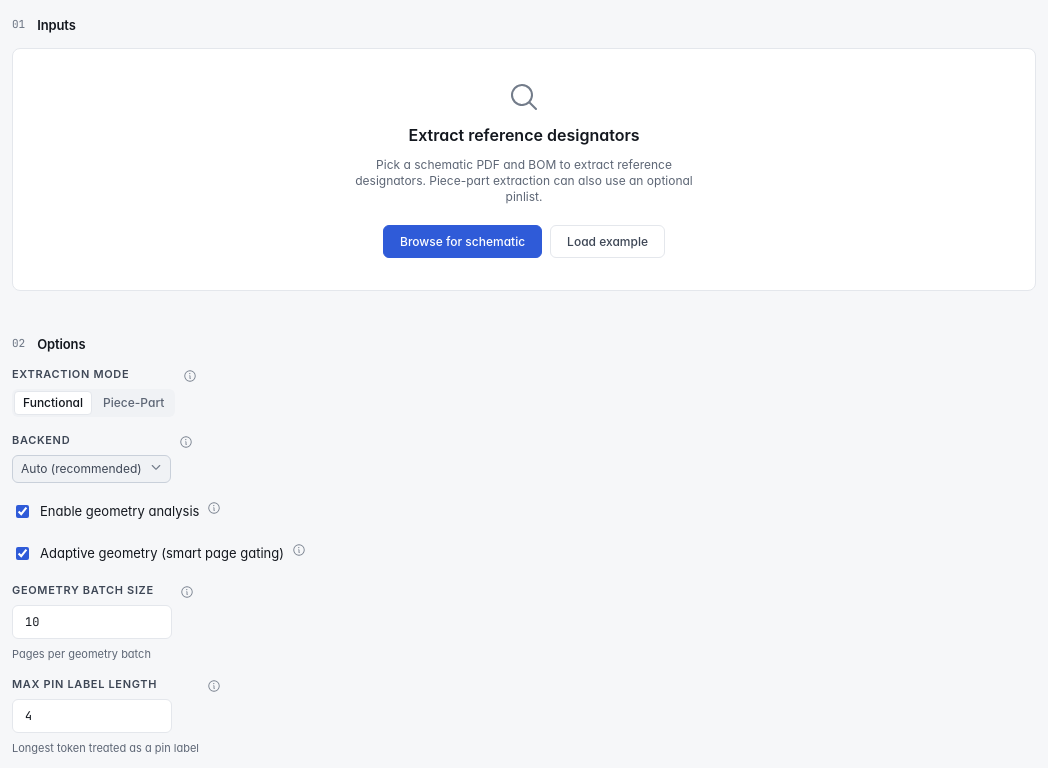
Test case: RefDesExtractorTool browser-preview Load example › reveals the staged demo content instead of a coming-soon notice
Step 1. Click the button "Load example" → (608, 242), box [550,225,665,258]
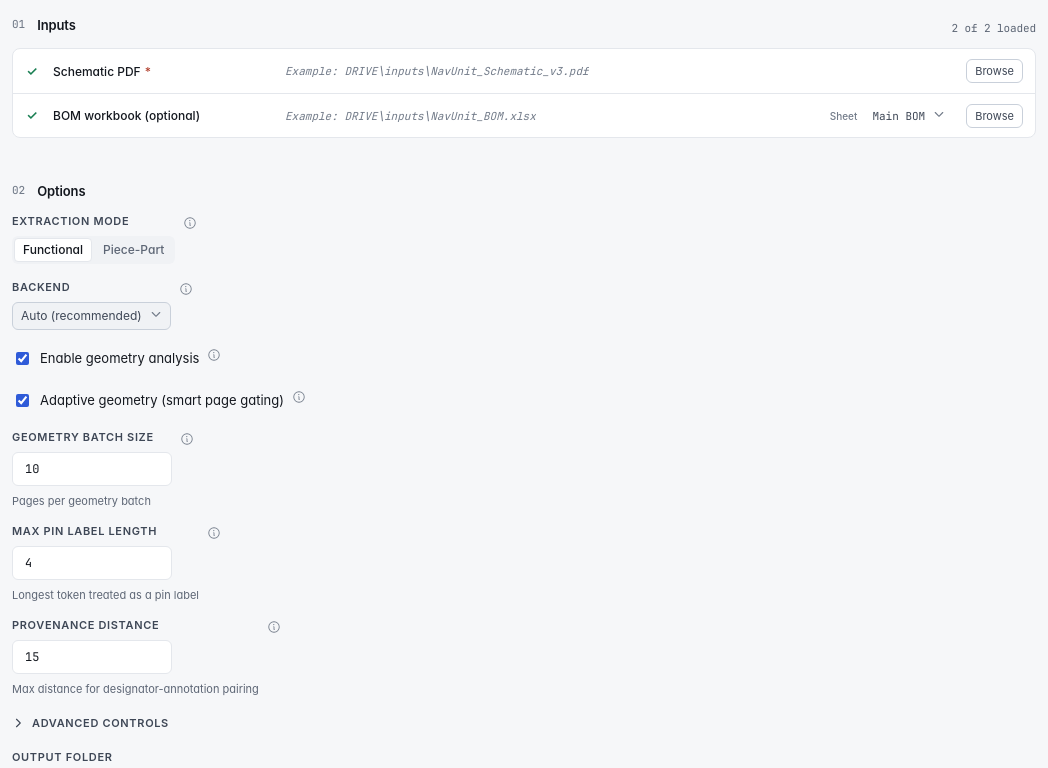
Expected: the button "Load example" is gone
Expected: the text "Example: DRIVE\\inputs\\NavUnit_Schematic_v3.pdf" is shown, [285,64,589,78]
